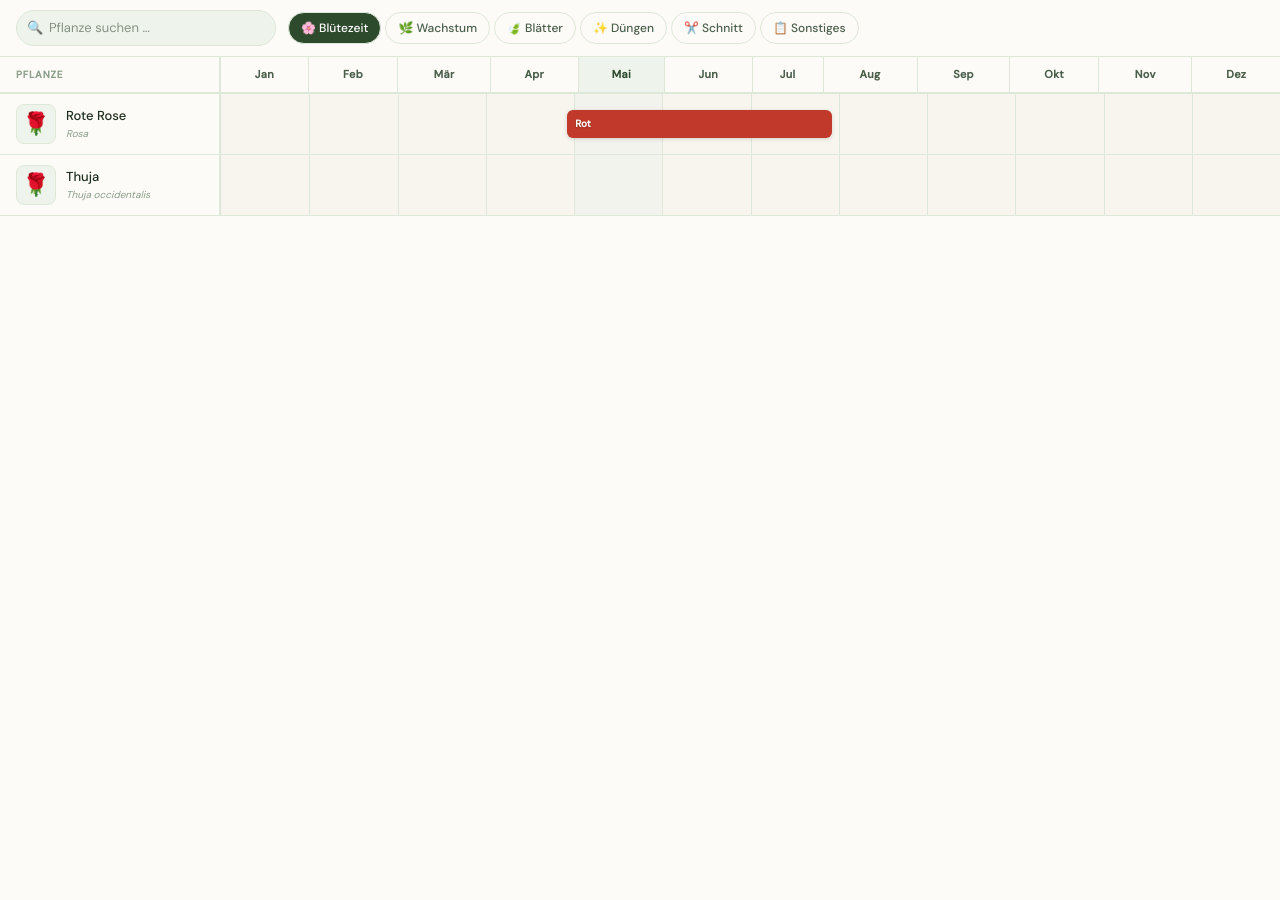
Test: CalendarView — detail panel (AC #6) › clicking a plant row shows the detail panel
Click the row with test id "calendar-plant-row" showing "🌹 Rote Rose Rosa Rot".
click(640, 123)  # box 0,92 -> 1279,154
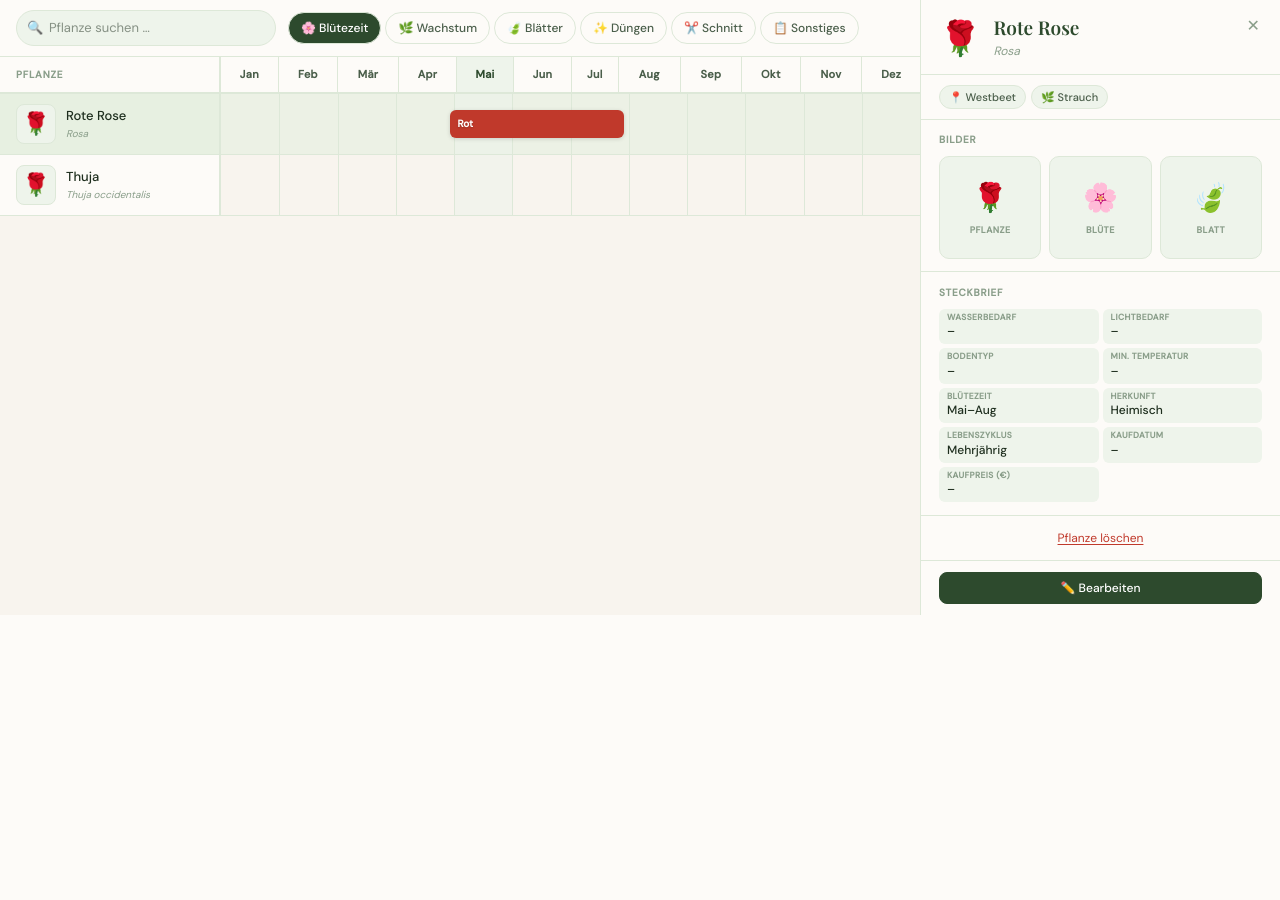
Now the button with test id "detail-close" is shown, box 1245,16 -> 1262,36
